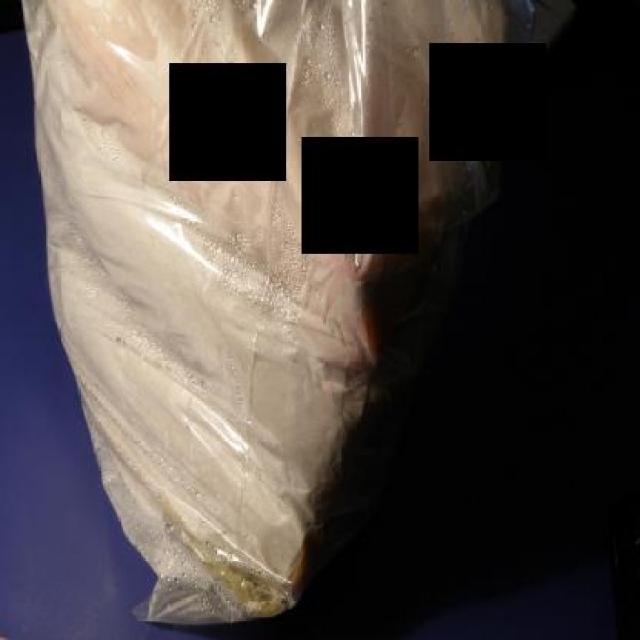plastic bag: (14, 0, 578, 625)
